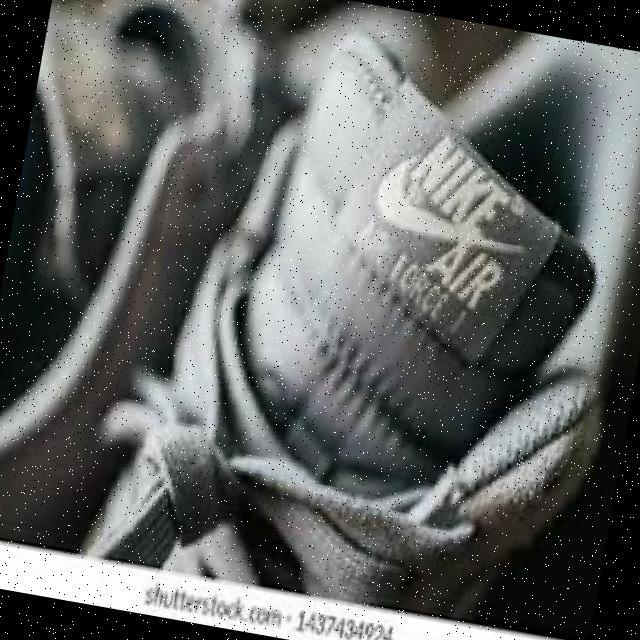Nike: (367, 117, 552, 258)
